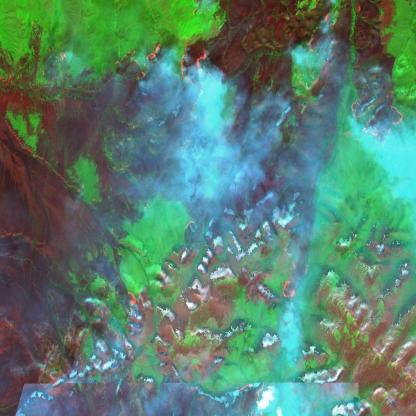fire: (346, 81, 410, 146), (108, 40, 171, 90), (178, 32, 212, 109), (306, 9, 336, 63), (281, 252, 305, 308), (48, 44, 68, 67), (125, 284, 142, 310)
